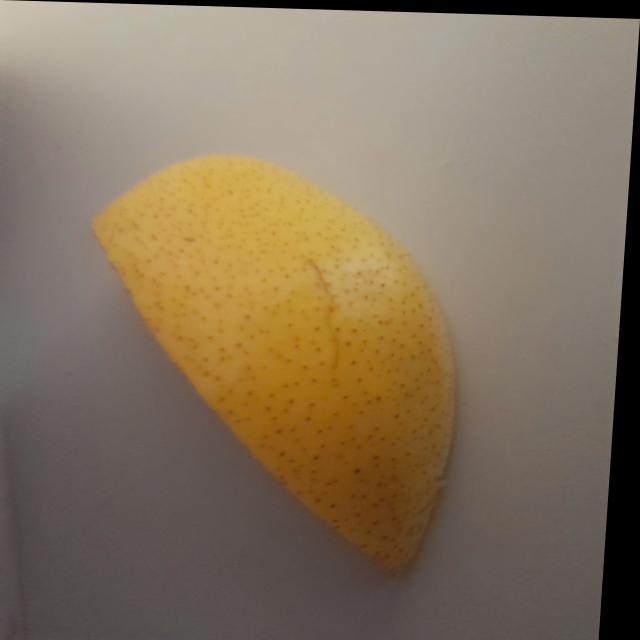Le: (65, 138, 495, 587)
